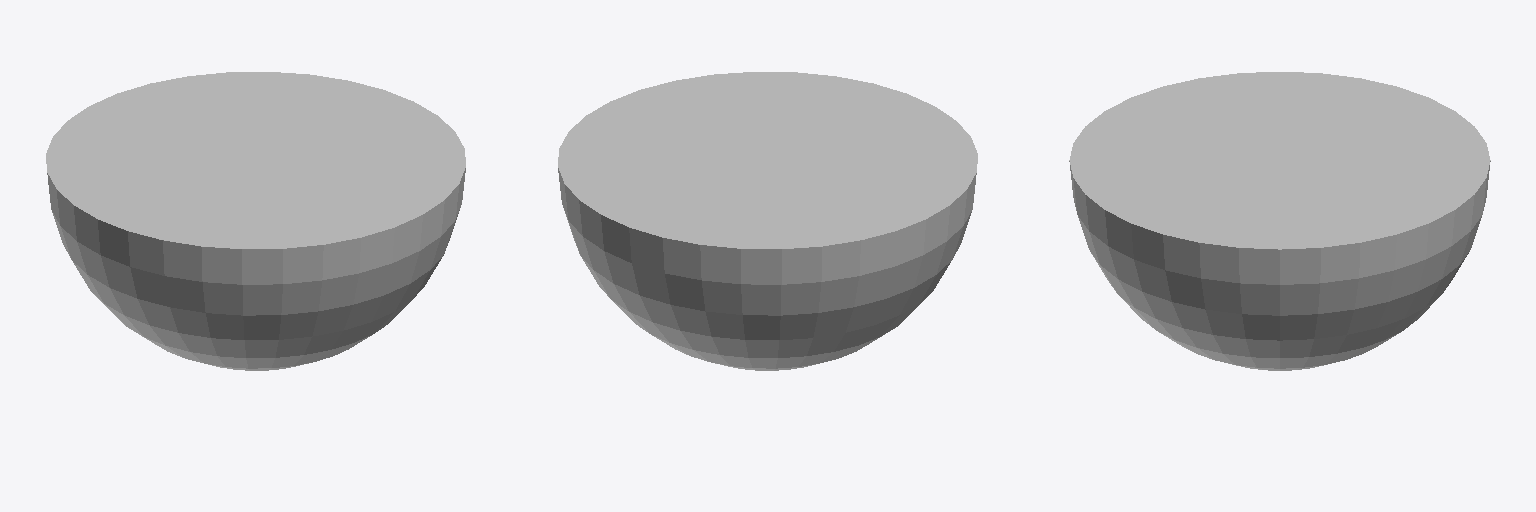
Rendered from MenuIsland.obj.
The picture shows the model from 3 angles: view 1: azimuth 30°, elevation 25°; view 2: azimuth 150°, elevation 25°; view 3: azimuth 270°, elevation 25°; orthographic projection.
Parts seen in each view (by area): view 1: Cube; view 2: Cube; view 3: Cube.
Part boxes in pixels (x1,y1,x2,y2): Cube: (46, 72, 465, 370); Cube: (558, 72, 977, 370); Cube: (1069, 72, 1490, 370).
Size of the model in its own units: 10 by 5 by 10.